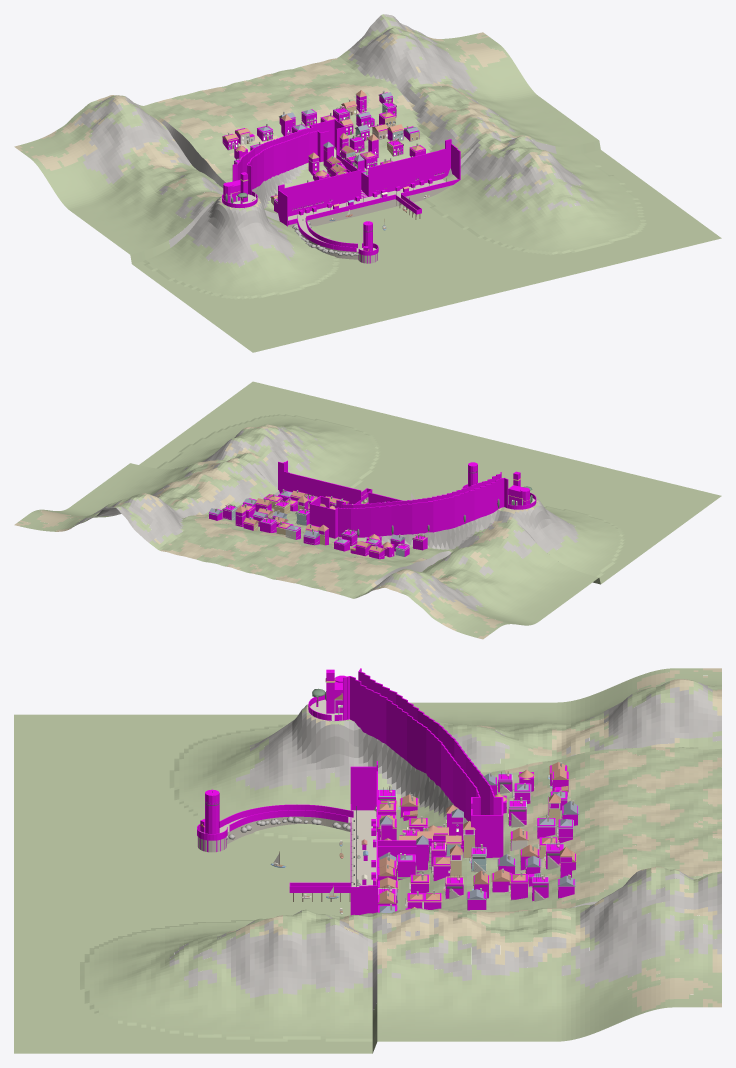
The model's file is harbour.draco.glb.
The picture shows the model from 3 angles, top to bottom: view 1: azimuth 30°, elevation 25°; view 2: azimuth 150°, elevation 25°; view 3: azimuth 270°, elevation 25°; orthographic projection. The views are drawn at different scales.
Parts seen in each view (by area): view 1: terrain_land, col_bounds, col_town, col_seawall, terrain_quay; view 2: terrain_land, col_bounds, col_town; view 3: terrain_land, col_bounds, col_town, col_seawall, terrain_quay, terrain_pier, col_stairs.
Boxes of the visible parts, x1=… form: terrain_land: x1=14, y1=14, x2=721, y2=352; col_bounds: x1=232, y1=119, x2=460, y2=226; col_town: x1=222, y1=92, x2=432, y2=251; col_seawall: x1=288, y1=179, x2=459, y2=255; terrain_quay: x1=288, y1=179, x2=451, y2=226; terrain_land: x1=14, y1=381, x2=721, y2=639; col_bounds: x1=278, y1=460, x2=508, y2=538; col_town: x1=209, y1=462, x2=536, y2=559; terrain_land: x1=14, y1=668, x2=721, y2=1053; col_bounds: x1=343, y1=668, x2=503, y2=915; col_town: x1=200, y1=669, x2=577, y2=912; col_seawall: x1=197, y1=804, x2=353, y2=892; terrain_quay: x1=351, y1=810, x2=376, y2=886; terrain_pier: x1=219, y1=816, x2=354, y2=844; col_stairs: x1=378, y1=840, x2=463, y2=872.
Size of what is drawn, in the model's own units: 340 by 68.81 by 300.
